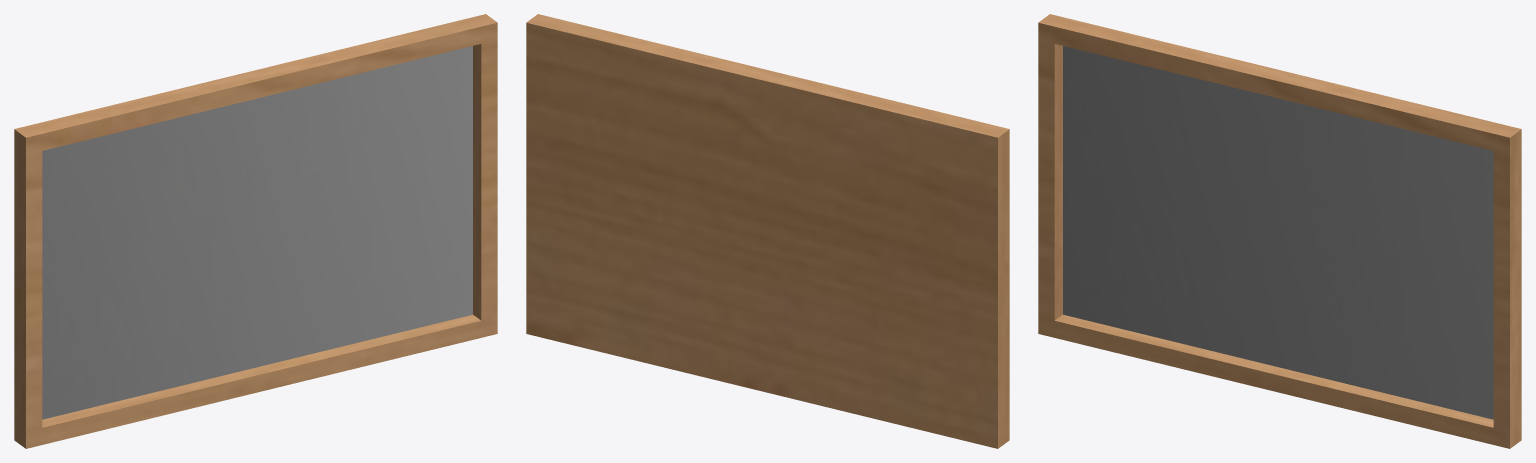
The model's file is SM_DisScreen_01.fbx.
3 views of the same model, side by side, from view 1: azimuth 30°, elevation 25°; view 2: azimuth 150°, elevation 25°; view 3: azimuth 330°, elevation 25° (orthographic).
Parts seen in each view (by area): view 1: SM_DisScreen_01; view 2: SM_DisScreen_01; view 3: SM_DisScreen_01.
Part boxes in pixels (x1=…): SM_DisScreen_01: x1=14, y1=14, x2=497, y2=448; SM_DisScreen_01: x1=526, y1=14, x2=1009, y2=448; SM_DisScreen_01: x1=1038, y1=14, x2=1521, y2=448.
Bounding box in the file's own units: 230 × 145 × 10.
